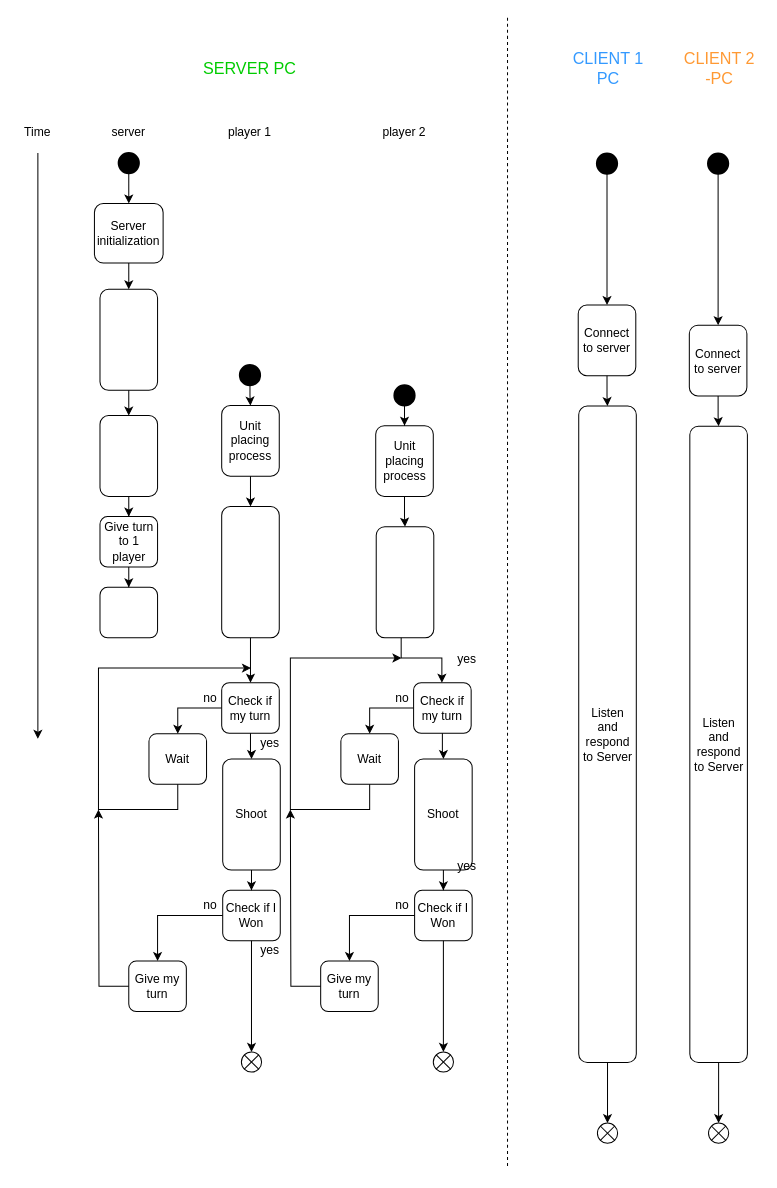
Some shapes in this 777 by 1188 pixel diagram are drawn without their labels. The box of each missing label's shape, as (x1, y1, x2, y2) in pixels:
Start Command: (99, 586, 158, 638)
Wainting Start command: (375, 526, 434, 638)
Waiting for 2 clients to connect: (99, 288, 158, 390)
waiting for clients to be ready: (99, 415, 158, 496)
Waiting Start command: (221, 506, 279, 638)
